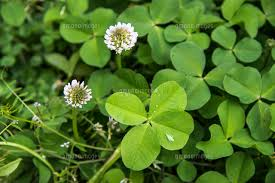4-clover: (104, 80, 194, 172)
